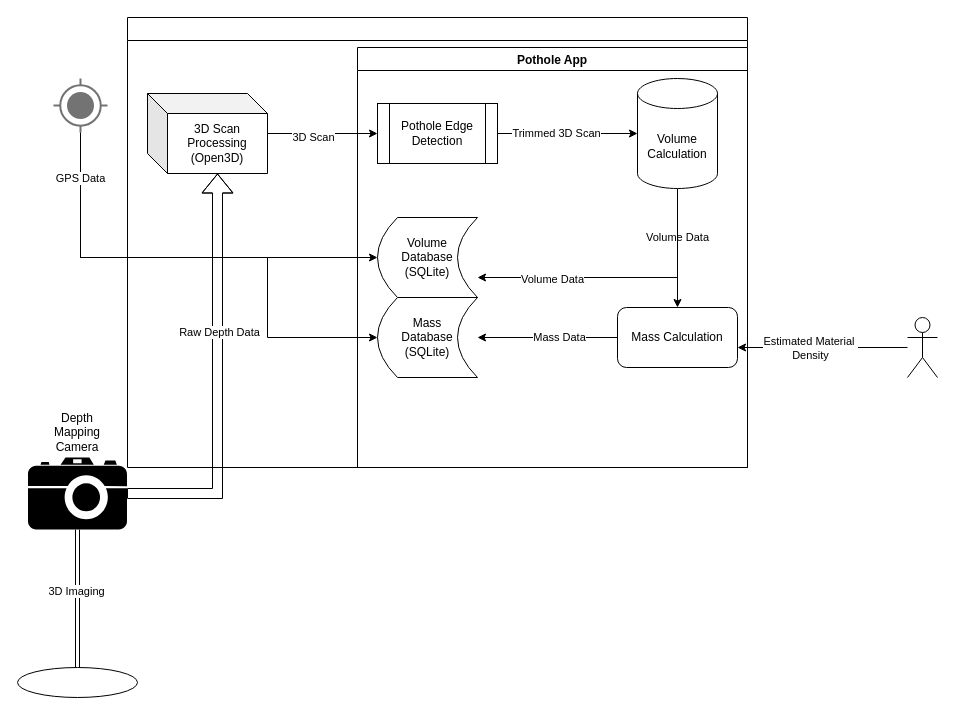
This 968x715 diagram has some shape labels left out. Here are the shapes that lost their labels. From the top down, the box of each, then its label:
(126, 16, 748, 468): Embedded Device(Jetson Nano)
(906, 316, 938, 378): Technician
(16, 666, 138, 698): Pothole
